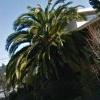Palm tree: (14, 4, 80, 97)
